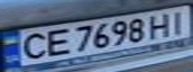6: (90, 19, 115, 51)
7: (69, 23, 97, 53)
8: (127, 15, 151, 43)
9: (109, 18, 133, 47)
C: (15, 29, 51, 61)
E: (39, 26, 72, 57)
H: (145, 10, 175, 38)
I: (163, 7, 193, 35)
